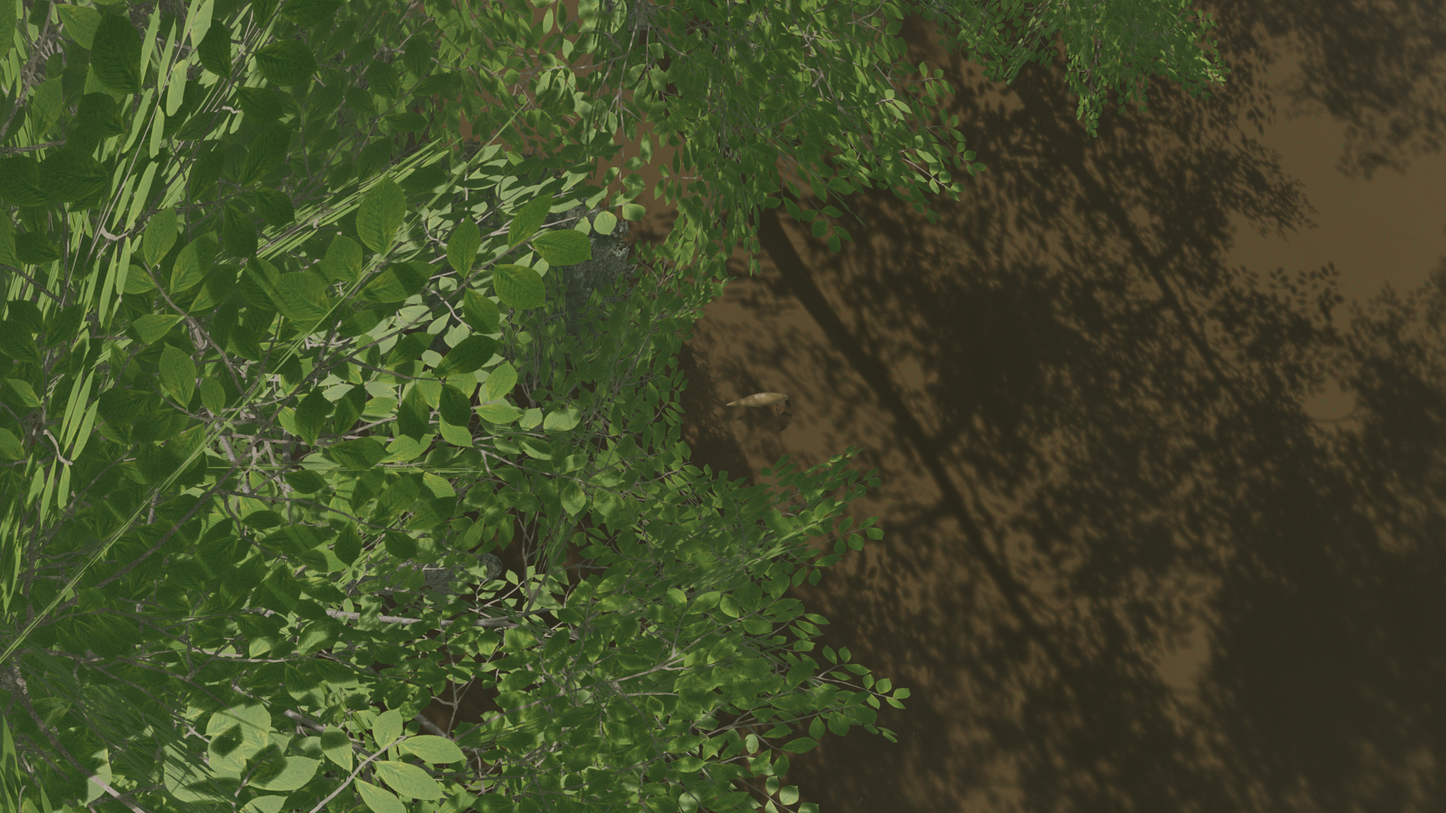pangolin: (726, 389, 791, 414)
